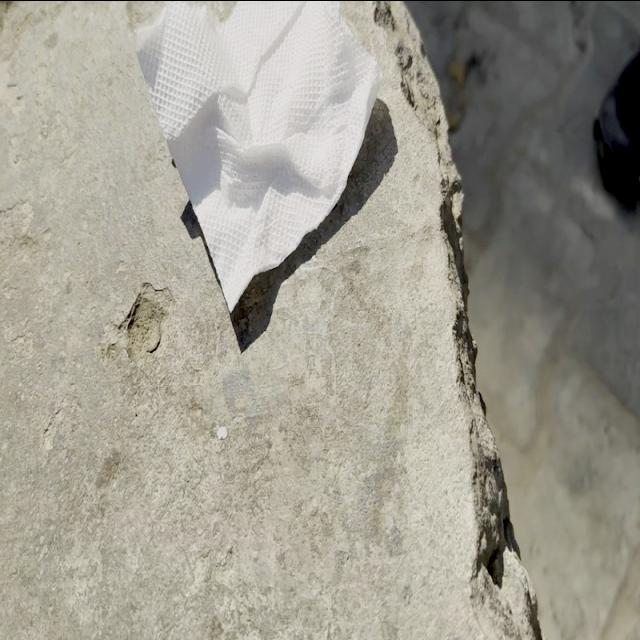tissue: (134, 0, 386, 318)
